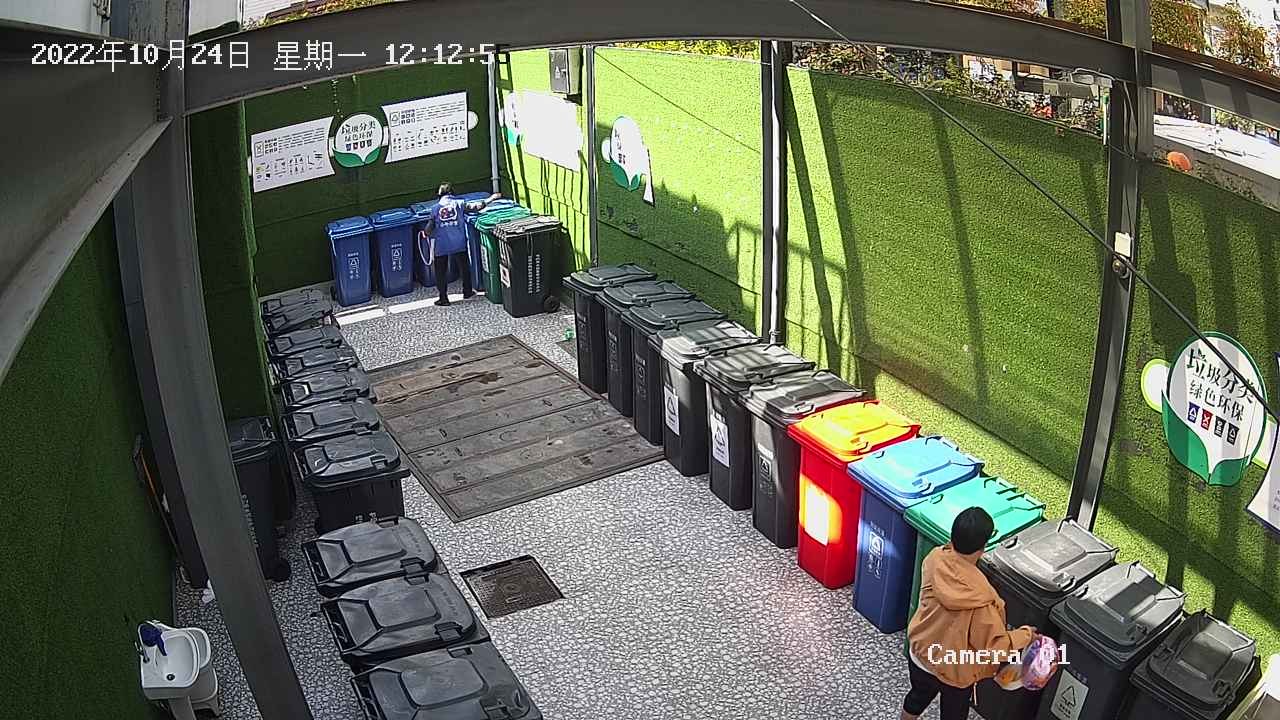garbage-bag: (989, 629, 1068, 693)
person: (893, 503, 1041, 720)
worker: (420, 177, 504, 312)
